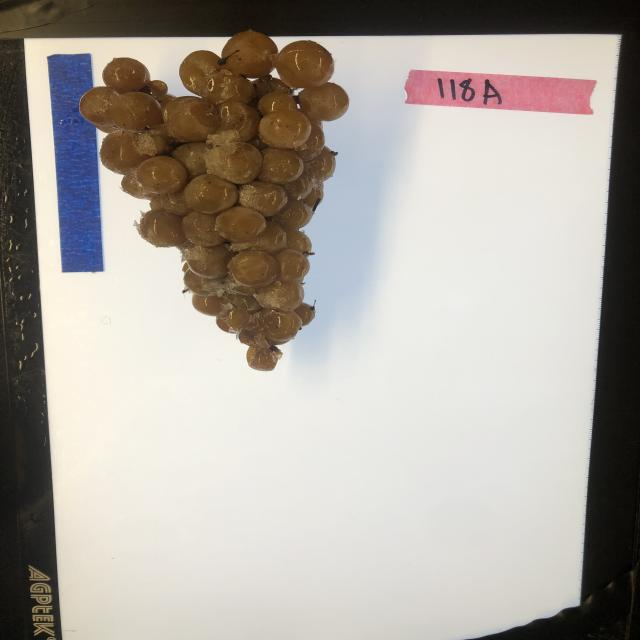grape_cluster: (77, 29, 348, 372)
index: (402, 68, 598, 115)
measure_label: (47, 52, 106, 274)
